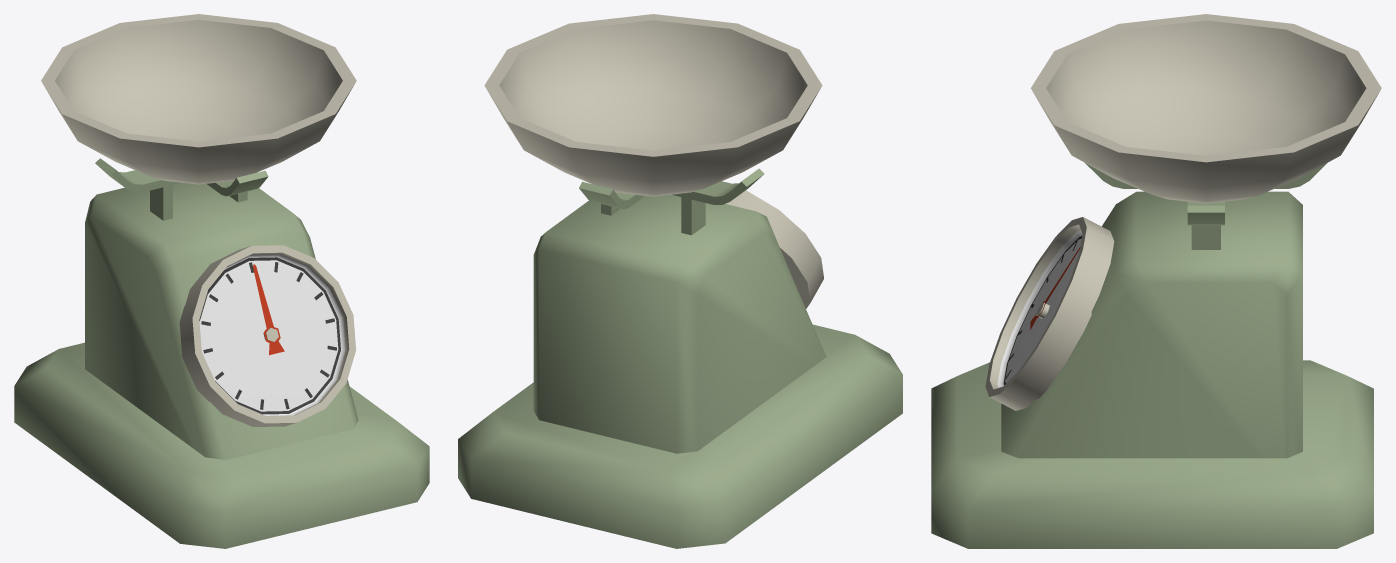
Rendered from KitchenScale_01.fbx.
The picture shows the model from 3 angles, left to right: view 1: azimuth 30°, elevation 25°; view 2: azimuth 150°, elevation 25°; view 3: azimuth 270°, elevation 25°; orthographic projection. The views are drawn at different scales.
Parts seen in each view (by area): view 1: KitchenScale_01; view 2: KitchenScale_01; view 3: KitchenScale_01.
Boxes of the visible parts, <box> form: KitchenScale_01: <box>14,14,429,548</box>; KitchenScale_01: <box>458,14,902,548</box>; KitchenScale_01: <box>931,14,1381,548</box>.
Size of the model in its own units: 0.2962 by 0.3664 by 0.3802.
